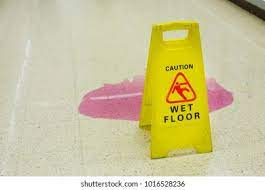wet caution sign: (135, 16, 216, 161)
